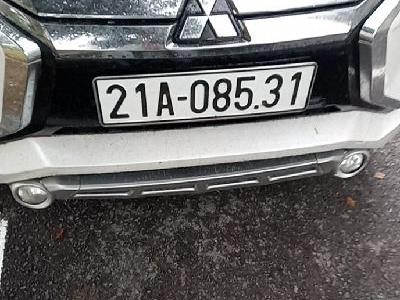lisence: (92, 62, 318, 129)
